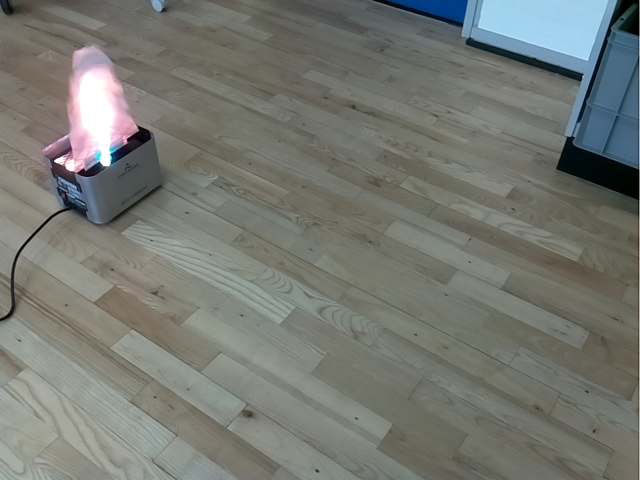fire: (66, 44, 138, 172)
